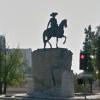Statue: (25, 9, 82, 47)
